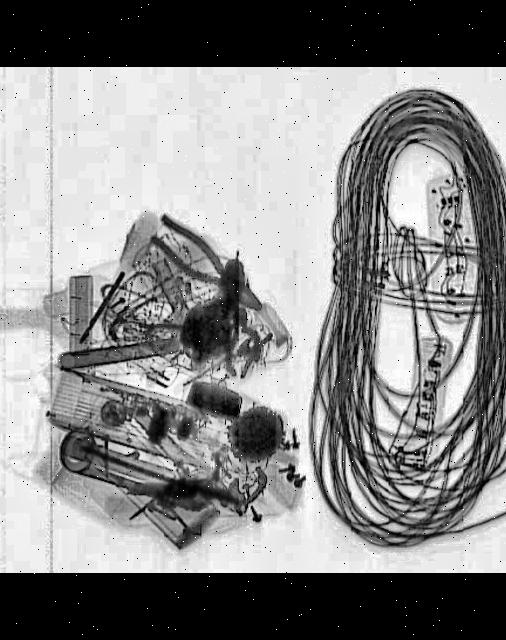Pliers: (136, 209, 272, 321)
